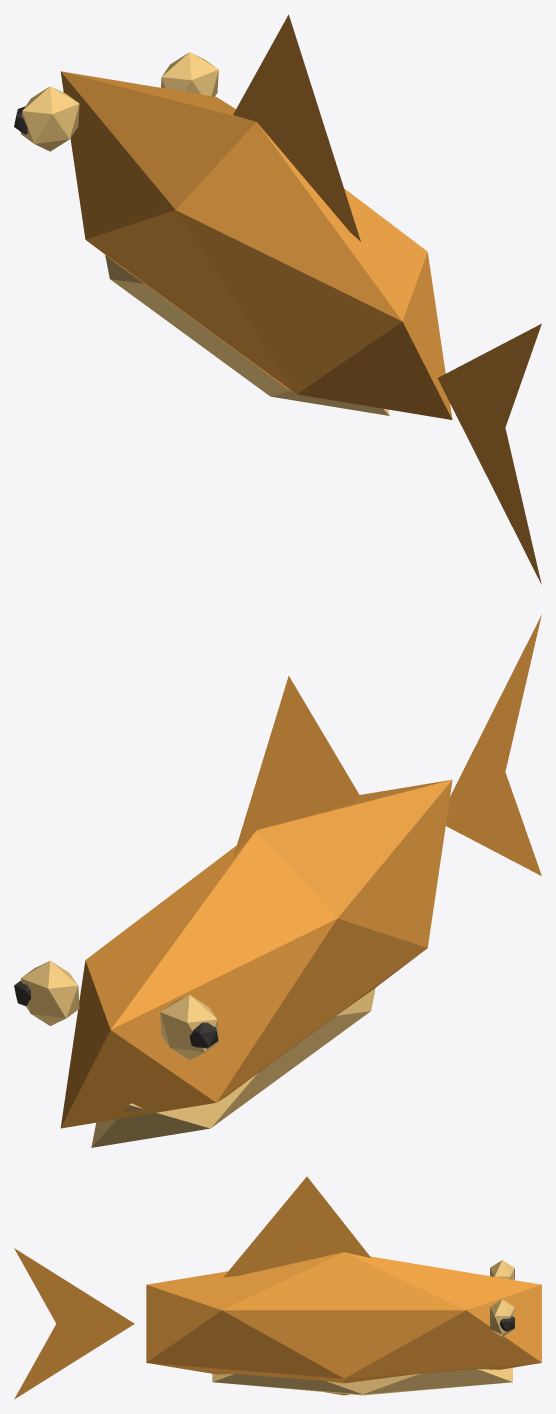
Rendered from SuperdwarfFish.fbx.
3 renders of one model, top to bottom at view 1: azimuth 30°, elevation 25°; view 2: azimuth 150°, elevation 25°; view 3: azimuth 270°, elevation 25°, orthographic. The views are drawn at different scales.
Parts seen in each view (by area): view 1: Body, Dorsal, TailFin, Belly, Eye1, Eye-1; view 2: Body, Dorsal, TailFin, Belly, Eye-1, Eye1; view 3: Body, Dorsal, TailFin, Belly, Eye-1, Eye1.
Boxes of the visible parts, <box> form: Body: <box>60,71,452,419</box>; Dorsal: <box>233,14,360,241</box>; TailFin: <box>437,323,541,584</box>; Belly: <box>105,255,389,415</box>; Eye1: <box>21,86,79,151</box>; Eye-1: <box>161,52,218,96</box>; Body: <box>60,779,452,1128</box>; Dorsal: <box>233,676,360,857</box>; TailFin: <box>445,615,541,875</box>; Belly: <box>91,988,375,1147</box>; Eye-1: <box>21,960,79,1025</box>; Eye1: <box>160,994,218,1059</box>; Body: <box>146,1252,541,1395</box>; Dorsal: <box>224,1176,371,1277</box>; TailFin: <box>14,1248,134,1399</box>; Belly: <box>212,1367,512,1395</box>; Eye-1: <box>490,1299,514,1336</box>; Eye1: <box>490,1260,514,1279</box>.
Bounding box in the file's own units: 0.0288 × 0.053 × 0.1135.
